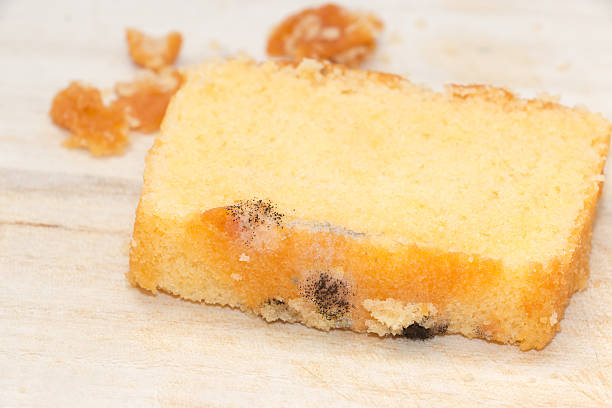mold_bread: (298, 257, 360, 323), (223, 194, 291, 241), (389, 309, 455, 345), (297, 216, 368, 243), (250, 287, 293, 318)
